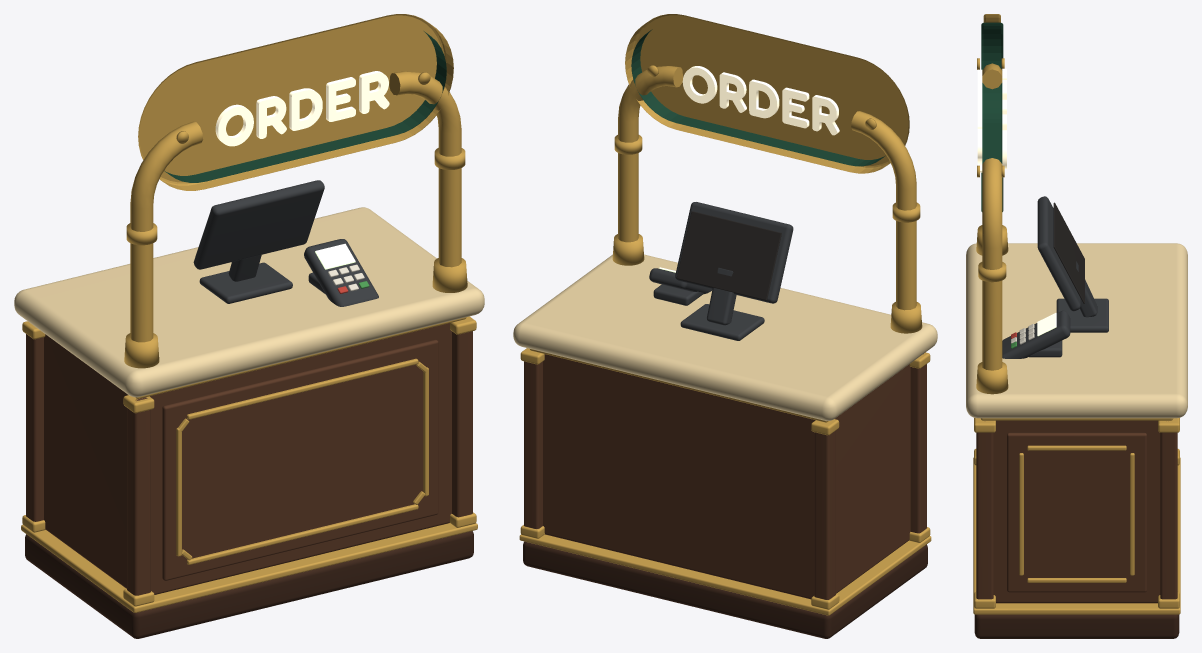
File: order_desk.glb
3 views of the same model, side by side, from view 1: azimuth 30°, elevation 25°; view 2: azimuth 150°, elevation 25°; view 3: azimuth 270°, elevation 25° (orthographic). The views are drawn at different scales.
Parts seen in each view (by area): view 1: FrontPanel, Top, Body, SignBorder, Plinth, Monitor, PlinthBrass, ArchPost-1, SignText0, ArchPost1, Pilaster-1-1, Pilaster1-1 (+12 smaller); view 2: Body, Top, SignBorder, Plinth, MonitorGlass, PlinthBrass, ArchPost-1, SignText1, ArchPost1, Pilaster-11, Pilaster11, Pilaster-1-1 (+9 smaller); view 3: Top, EndPanel, Body, Plinth, ArchPost1, PlinthBrass, Pilaster1-1, Pilaster11, Sign, Monitor, MonitorGlass, Reader (+14 smaller).
Boxes of the visible parts, bbox=[...] form: FrontPanel: bbox=[162, 339, 438, 580]; Top: bbox=[14, 207, 484, 397]; Body: bbox=[44, 323, 451, 594]; SignBorder: bbox=[138, 14, 453, 190]; Plinth: bbox=[25, 531, 473, 638]; Monitor: bbox=[193, 180, 324, 269]; PlinthBrass: bbox=[21, 523, 477, 612]; ArchPost-1: bbox=[130, 121, 203, 342]; SignText0: bbox=[215, 71, 389, 146]; ArchPost1: bbox=[389, 71, 461, 267]; Pilaster-1-1: bbox=[127, 397, 150, 595]; Pilaster1-1: bbox=[452, 331, 472, 517]; Body: bbox=[543, 354, 910, 599]; Top: bbox=[513, 254, 937, 420]; SignBorder: bbox=[625, 14, 909, 173]; Plinth: bbox=[523, 541, 927, 638]; MonitorGlass: bbox=[676, 211, 781, 300]; PlinthBrass: bbox=[519, 534, 931, 615]; ArchPost-1: bbox=[851, 111, 916, 310]; SignText1: bbox=[682, 66, 839, 135]; ArchPost1: bbox=[618, 66, 683, 242]; Pilaster-11: bbox=[814, 430, 835, 599]; Pilaster11: bbox=[524, 361, 542, 528]; Pilaster-1-1: bbox=[910, 354, 926, 533]; Top: bbox=[966, 243, 1187, 418]; EndPanel: bbox=[1007, 432, 1146, 592]; Body: bbox=[993, 420, 1160, 603]; Plinth: bbox=[974, 614, 1179, 638]; ArchPost1: bbox=[982, 158, 1002, 370]; PlinthBrass: bbox=[973, 457, 1180, 614]; Pilaster1-1: bbox=[976, 432, 993, 599]; Pilaster11: bbox=[1160, 432, 1177, 599]; Sign: bbox=[981, 22, 1003, 211]; Monitor: bbox=[1037, 196, 1080, 311]; MonitorGlass: bbox=[1053, 202, 1084, 303]; Reader: bbox=[1002, 310, 1070, 358].
Bounding box in the file's own units: 1.29 × 1.9 × 0.76.
